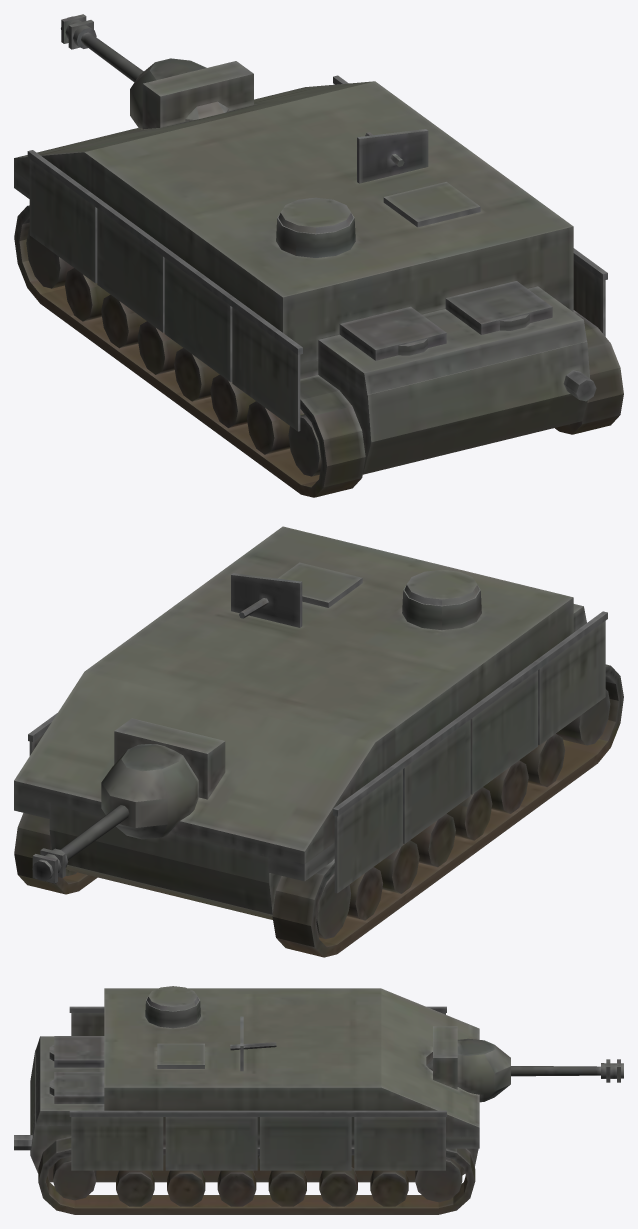
The model's file is stug_baked.glb.
3 renders of one model, top to bottom at view 1: azimuth 30°, elevation 25°; view 2: azimuth 150°, elevation 25°; view 3: azimuth 270°, elevation 25°, orthographic. The views are drawn at different scales.
Parts seen in each view (by area): view 1: stug, barrel; view 2: stug, barrel; view 3: stug, barrel.
Boxes of the visible parts, left/top/right/bottom form: stug: left=14, top=58, right=623, bottom=497; barrel: left=61, top=14, right=143, bottom=82; stug: left=14, top=526, right=623, bottom=957; barrel: left=32, top=805, right=129, bottom=883; stug: left=14, top=986, right=510, bottom=1214; barrel: left=511, top=1059, right=623, bottom=1082.
Size of the model in its own units: 3.05 by 2.12 by 7.44.
1 material, 1 textured.
